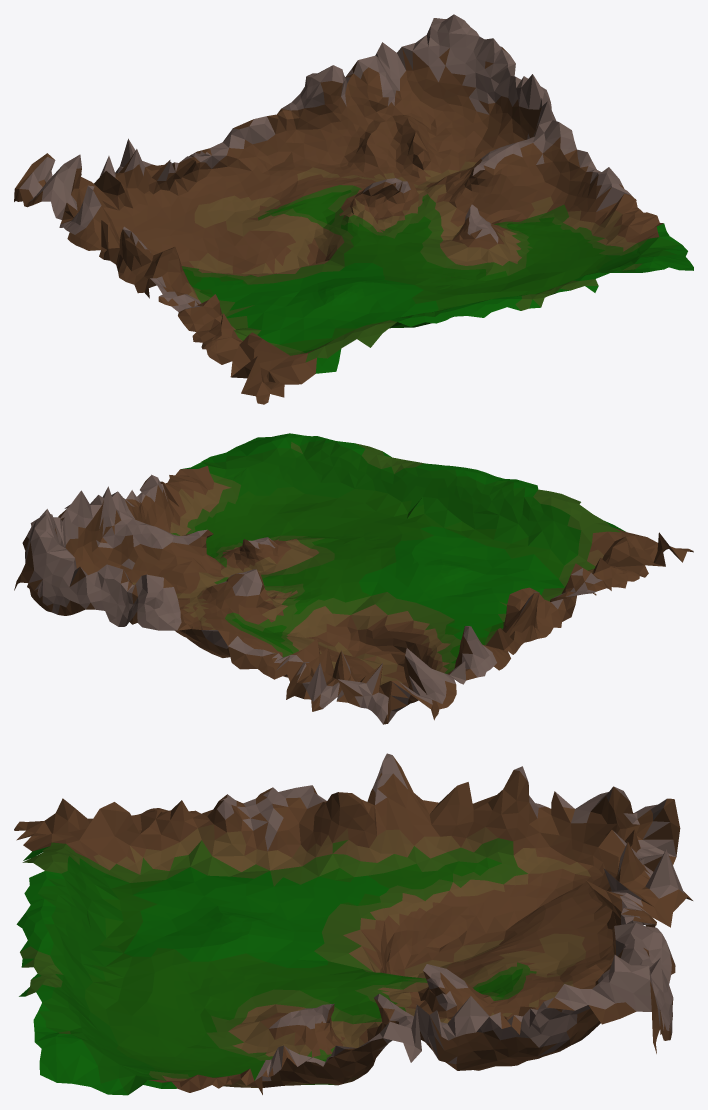
The model's file is arena2.1.fbx.
The picture shows the model from 3 angles, top to bottom: view 1: azimuth 30°, elevation 25°; view 2: azimuth 150°, elevation 25°; view 3: azimuth 270°, elevation 25°; orthographic projection. The views are drawn at different scales.
Parts seen in each view (by area): view 1: Plane; view 2: Plane; view 3: Plane.
Boxes of the visible parts, x1,y1,x2,y2 form: Plane: (14, 14, 693, 404); Plane: (14, 433, 693, 724); Plane: (14, 753, 692, 1095).
Size of the model in its own units: 8135 by 2439 by 8047.
